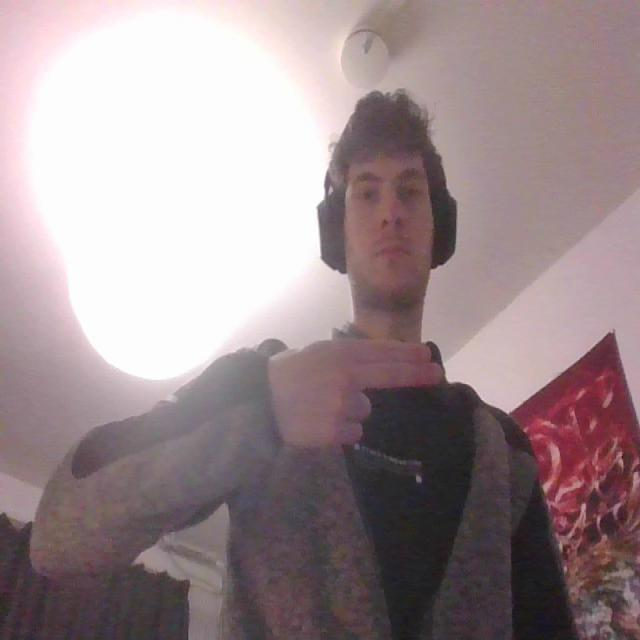right: (270, 331, 444, 457)
